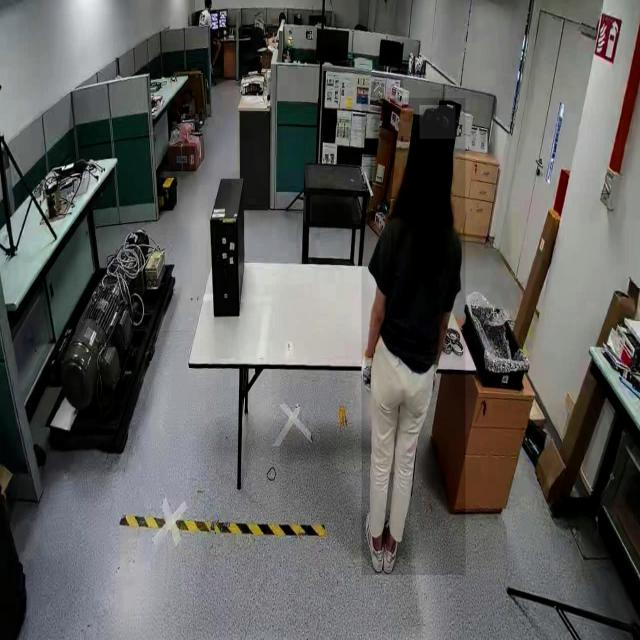hand_glove: (356, 360, 372, 391)
head_nohelmet: (419, 105, 455, 139)
person: (361, 98, 465, 576)
shoes: (364, 508, 384, 572), (383, 515, 402, 574)
